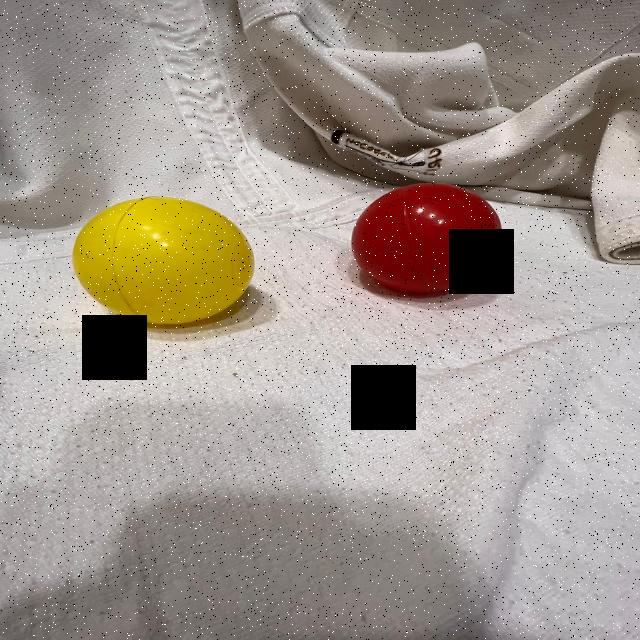ball: (69, 194, 258, 329), (348, 180, 504, 296)
